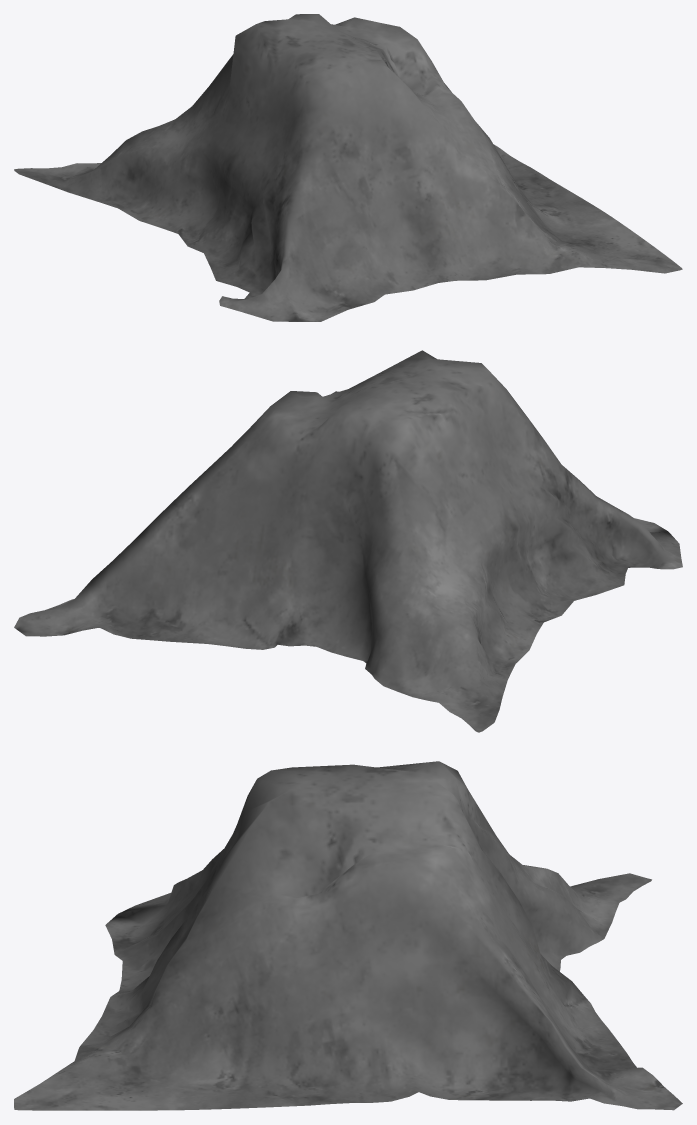
Rendered from Machinery covered 2.fbx.
3 renders of one model, top to bottom at view 1: azimuth 30°, elevation 25°; view 2: azimuth 150°, elevation 25°; view 3: azimuth 270°, elevation 25°, orthographic. The views are drawn at different scales.
Parts seen in each view (by area): view 1: Plane.004; view 2: Plane.004; view 3: Plane.004.
Part boxes in pixels (bbox=[...]): Plane.004: bbox=[14, 14, 682, 321]; Plane.004: bbox=[14, 350, 682, 732]; Plane.004: bbox=[14, 761, 682, 1110].
Bounding box in the file's own units: 622 × 255 × 742.
